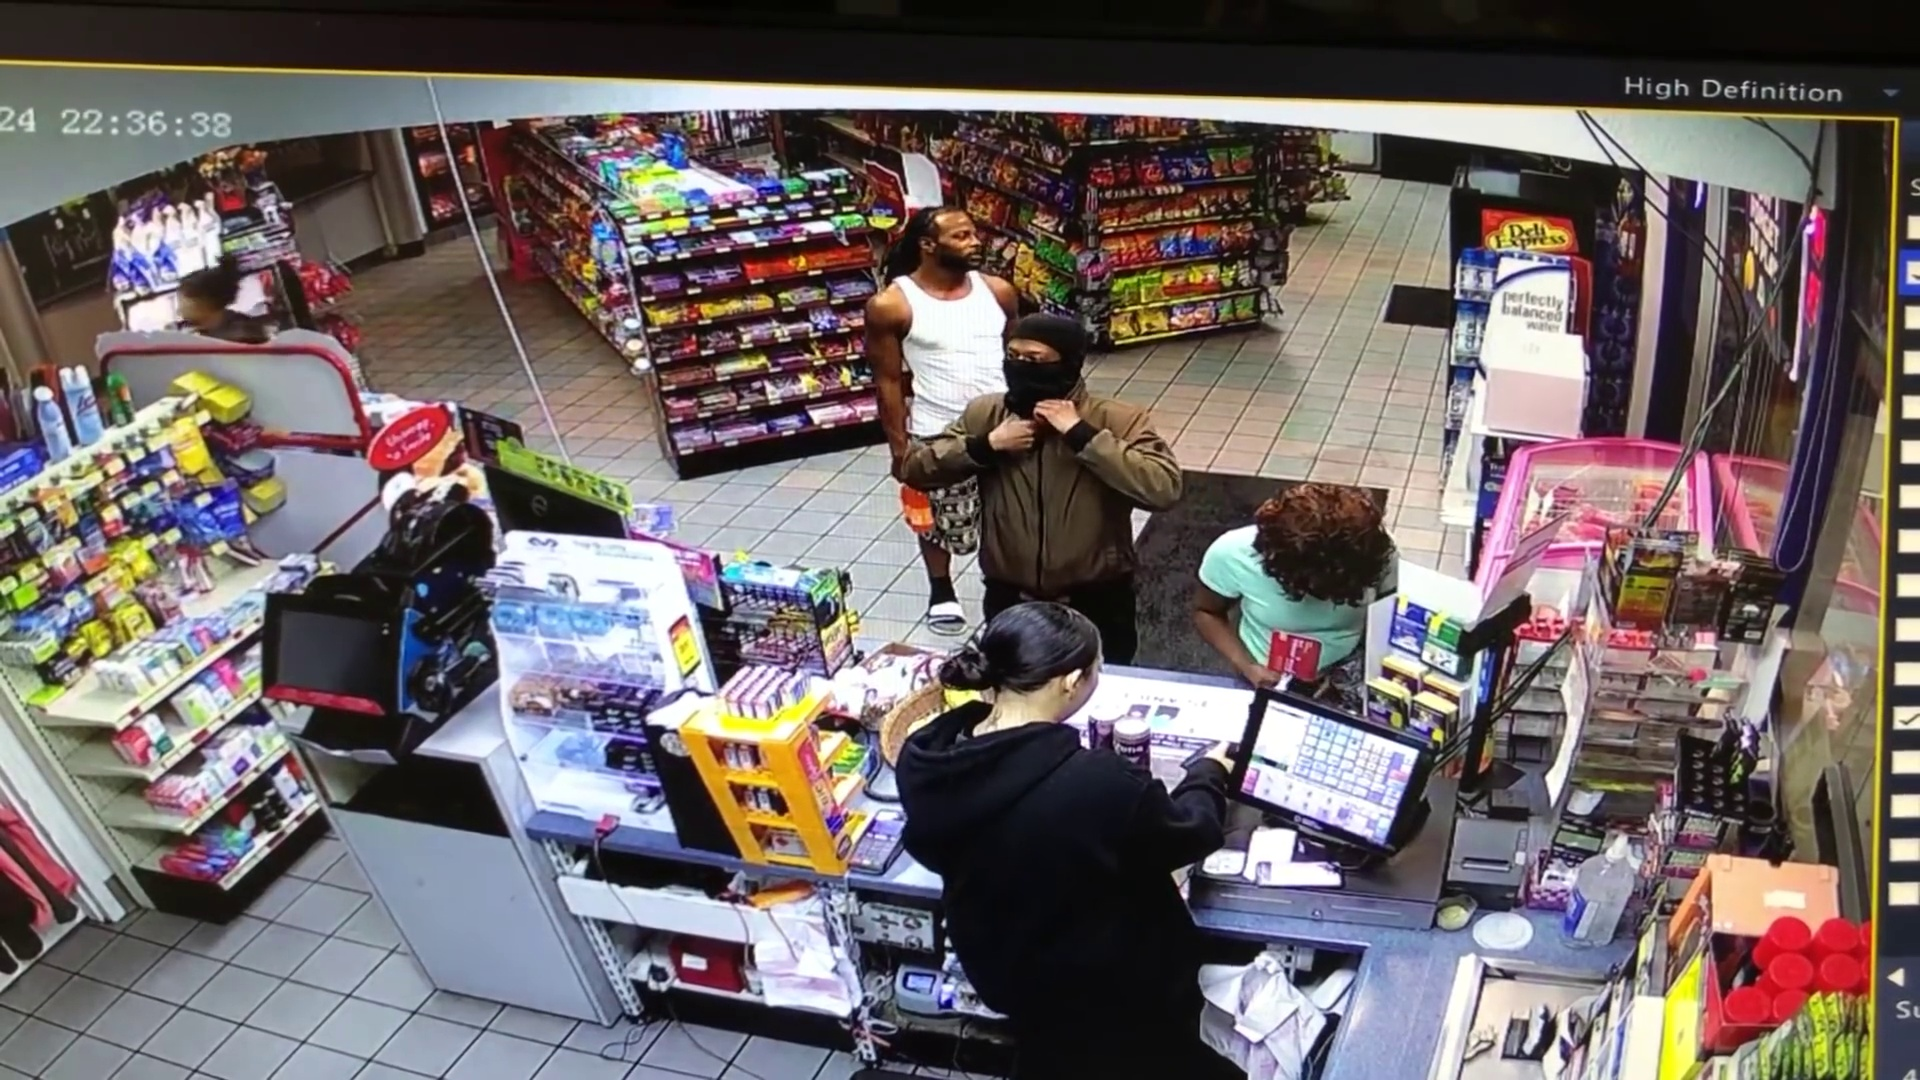face: (923, 202, 986, 273), (992, 336, 1064, 392)
